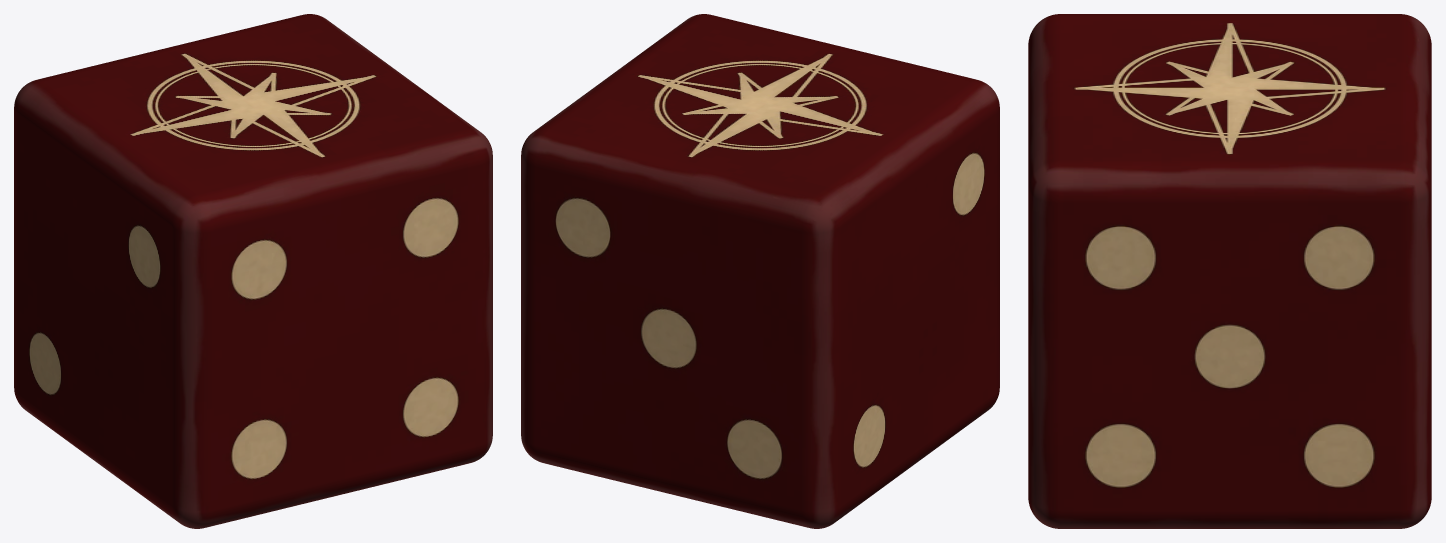
File: dice_6.gltf
3 renders of one model, left to right at view 1: azimuth 30°, elevation 25°; view 2: azimuth 150°, elevation 25°; view 3: azimuth 270°, elevation 25°, orthographic. The views are drawn at different scales.
Visible parts, largest first — view 1: dice_6; view 2: dice_6; view 3: dice_6.
Boxes of the visible parts, <box> form: dice_6: <box>14,14,492,528</box>; dice_6: <box>521,14,999,528</box>; dice_6: <box>1028,14,1431,528</box>.
Bounding box in the file's own units: 104 × 104 × 104.
Materials: 1 (1 with a texture image).
